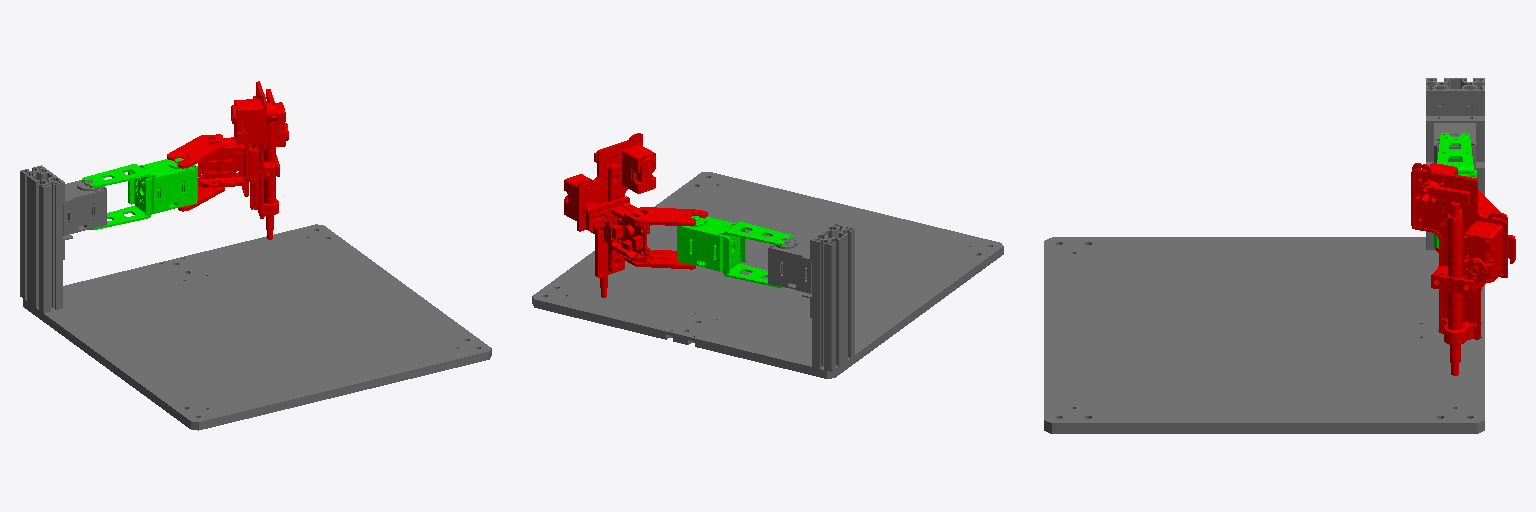
robot.urdf — seto_scararobot2:
<?xml version="1.0" ?>
<robot name="seto_scararobot2">

    <link name="world" />

    <link name="base_link">
        <visual>
            <geometry>
                <mesh filename="package://seto_scararobot2_description/meshes/base.stl" />
            </geometry>
            <material name="gray">
                <color rgba="0.5 0.5 0.5 1.0" />
            </material>
        </visual>
        <collision>
            <geometry>
                <mesh filename="package://seto_scararobot2_description/meshes/base.stl" />
            </geometry>
            <origin xyz="0 0 0" rpy="0 0 0"/>
        </collision>
        <inertial>
            <origin xyz="0.00003 -0.00017 0.066228" rpy="0 0 0"/>       <!-- Center of gravity (m) -->
            <mass value="2.935"/>                                       <!-- mass (kg) -->
            <inertia ixx="725.3" ixy="0.002201" ixz="-0.01514"
                    iyy="518.7" iyz="0.9947"
                    izz="868.9"/>                                       <!-- inertia (kg.m^2) -->
        </inertial>
    </link>

    <link name="arm1_link">
        <visual>
            <geometry>
                <mesh filename="package://seto_scararobot2_description/meshes/arm1.stl" />
            </geometry>
            <material name="green">
                <color rgba="0.0 1.0 0. 1.0" />
            </material>
        </visual>
        <collision>
            <geometry>
                <mesh filename="package://seto_scararobot2_description/meshes/arm1.stl" />
            </geometry>
            <origin xyz="0 0 0" rpy="0 0 0"/>
        </collision>
        <inertial>
            <origin xyz="0 0.0451 -0.004" rpy="0 0 0"/>                 <!-- Center of gravity (m) -->
            <mass value="0.042"/>                                       <!-- mass (kg) -->
            <inertia ixx="0.621" ixy="0" ixz="0"
                    iyy="0.07151" iyz="0.002973"
                    izz="0.688"/>                                       <!-- inertia (kg.m^2) -->
        </inertial>
    </link>

    <link name="arm2_link">
        <visual>
            <geometry>
                <mesh filename="package://seto_scararobot2_description/meshes/arm2.stl" />
            </geometry>
            <material name="red">
                <color rgba="1.0 0.0 0.0 1.0" />
            </material>
        </visual>
        <collision>
            <geometry>
                <mesh filename="package://seto_scararobot2_description/meshes/arm2.stl" />
            </geometry>
            <origin xyz="0 0 0" rpy="0 0 0"/>
        </collision>
        <inertial>
            <origin xyz="-0.004448 -0.025191 -0.056949" rpy="0 0 0"/>   <!-- Center of gravity (m) -->
            <mass value="0.221"/>                                       <!-- mass (kg) -->
            <inertia ixx="10.39" ixy="-0.3337" ixz="-0.3772"
                    iyy="5.693" iyz="-3.025"
                    izz="5.866"/>                                       <!-- inertia (kg.m^2) -->
        </inertial>
    </link>
    
    <link name="endpoint"> <!-- Control POINT !!!!!! -->
        <inertial>
            <origin xyz="0 0 0" rpy="0 0 0" />            <!-- Center of gravity (m) -->
            <mass value = "0.001" />                      <!-- mass (kg) -->
            <inertia ixx = "1.0" ixy = "0.0" ixz = "0.0" iyy =" 1.0" iyz =" 0.0" izz =" 1.0"/><!-- inertia (kg.m^2) -->
        </inertial>
    </link>

    <joint name="fixed_world" type="fixed">
        <parent link="world"/>
        <child link="base_link"/>
        <origin xyz="0 0 0.01" rpy="0 0 0" />
    </joint>
    <joint name="base_to_arm1" type="revolute">
        <parent link="base_link" />
        <child link="arm1_link" />
        <origin xyz="0 0 0.10200" rpy="0 0 0" />
        <axis xyz="0 0 -1" />
        <limit effort="1000.0" lower="-1.57079633" upper="1.57079633" velocity="2.0" />
    </joint>
    <joint name="arm1_to_arm2" type="revolute">
        <parent link="arm1_link" />
        <child link="arm2_link" />
        <origin xyz="0.09025 0 0" rpy="0 0 0" />
        <axis xyz="0 0 -1" />
        <limit effort="1000.0" lower="-3.14159" upper="3.14159" velocity="2.0" />
    </joint>
    <joint name="end_joint" type="revolute">
        <parent link="arm2_link" />
        <child link="endpoint" />
        <origin xyz="0.09025 0 0" rpy="0 0 0" />
        <axis xyz="0 0 1" />
        <limit effort="1000.0" lower="-3.14159" upper="3.14159" velocity="2.0" />
    </joint>

    <transmission name="trans_base_to_arm1">
        <type>transmission_interface/SimpleTransmission</type>
        <joint name="base_to_arm1">
            <hardwareInterface>hardware_interface/PositionJointInterface</hardwareInterface>
        </joint>
        <actuator name="base_to_arm1_motor">
            <hardwareInterface>hardware_interface/PositionJointInterface</hardwareInterface>
            <mechanicalReduction>1</mechanicalReduction>
        </actuator>
    </transmission>
    <transmission name="trans_arm1_to_arm2">
        <type>transmission_interface/SimpleTransmission</type>
        <joint name="arm1_to_arm2">
            <hardwareInterface>hardware_interface/PositionJointInterface</hardwareInterface>
        </joint>
        <actuator name="arm1_to_arm2_motor">
            <hardwareInterface>hardware_interface/PositionJointInterface</hardwareInterface>
            <mechanicalReduction>1</mechanicalReduction>
        </actuator>
    </transmission>
    <transmission name="trans_end_joint">
        <type>transmission_interface/SimpleTransmission</type>
        <joint name="end_joint">
            <hardwareInterface>hardware_interface/PositionJointInterface</hardwareInterface>
        </joint>
        <actuator name="end_joint_motor">
            <hardwareInterface>hardware_interface/PositionJointInterface</hardwareInterface>
            <mechanicalReduction>1</mechanicalReduction>
        </actuator>
    </transmission>
    <gazebo>
        <plugin name="gazebo_ros_control" filename="libgazebo_ros_control.so">
            <robotNamespace>/</robotNamespace>
        </plugin>
    </gazebo>
</robot>

--- Facts derived from the render (not from the file) ---
3 views of the same robot in one strip: view 1: azimuth 30°, elevation 25°; view 2: azimuth 150°, elevation 25°; view 3: azimuth 270°, elevation 25° (orthographic).
Model seto_scararobot2 with 5 links and 4 joints (3 revolute, 1 fixed), rooted at world, posed every joint at zero.
Visible links, largest first — view 1: base_link, arm2_link, arm1_link; view 2: base_link, arm2_link, arm1_link; view 3: base_link, arm2_link, arm1_link.
Link boxes in pixels (x1,y1,x2,y2): base_link: (20, 165, 491, 430); arm2_link: (167, 81, 288, 239); arm1_link: (82, 158, 197, 229); base_link: (532, 172, 1003, 378); arm2_link: (564, 133, 707, 297); arm1_link: (677, 216, 793, 287); base_link: (1044, 78, 1484, 433); arm2_link: (1411, 163, 1515, 375); arm1_link: (1434, 133, 1476, 247).
Bounding box of the posed robot: 0.3 × 0.3211 × 0.165 m (x, y, z).
Meshes: 3 distinct files referenced, 3 mesh visuals loaded (3 binary STL).
